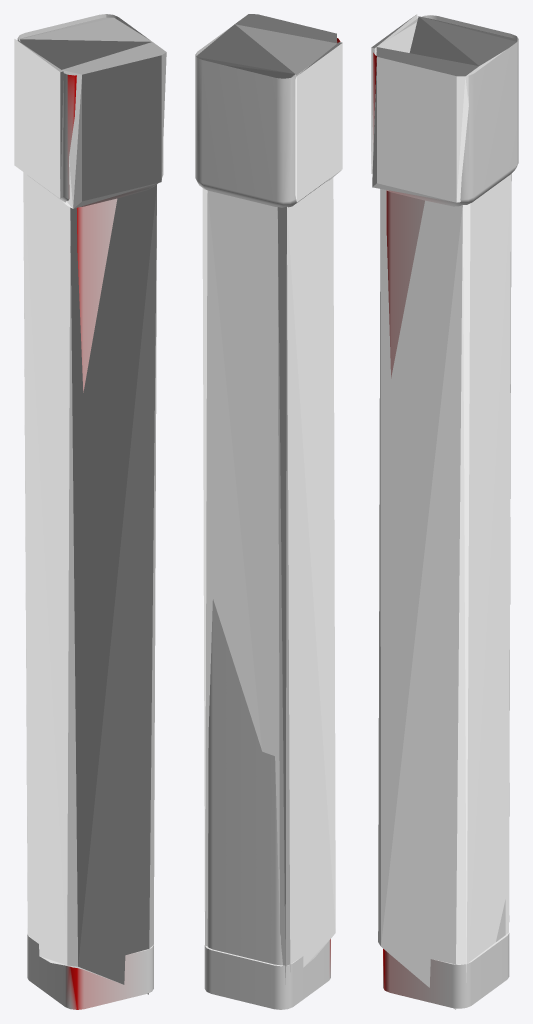
The picture shows the model from 3 angles, left to right: view 1: azimuth 30°, elevation 25°; view 2: azimuth 150°, elevation 25°; view 3: azimuth 330°, elevation 25°; orthographic projection.
Parts seen in each view (by area): view 1: SM_Pillar_Platform_01_ConvexHulls, SM_Pillar_Platform_01_LOD0; view 2: SM_Pillar_Platform_01_ConvexHulls, SM_Pillar_Platform_01_LOD0; view 3: SM_Pillar_Platform_01_ConvexHulls, SM_Pillar_Platform_01_LOD0.
Part boxes in pixels (x1,y1,x2,y2): SM_Pillar_Platform_01_ConvexHulls: (14, 17, 166, 994); SM_Pillar_Platform_01_LOD0: (17, 14, 163, 1009); SM_Pillar_Platform_01_ConvexHulls: (196, 14, 342, 984); SM_Pillar_Platform_01_LOD0: (195, 26, 340, 1009); SM_Pillar_Platform_01_ConvexHulls: (371, 14, 517, 1009); SM_Pillar_Platform_01_LOD0: (373, 15, 518, 1008).
Bounding box in the file's own units: 90.82 × 90.82 × 800.
